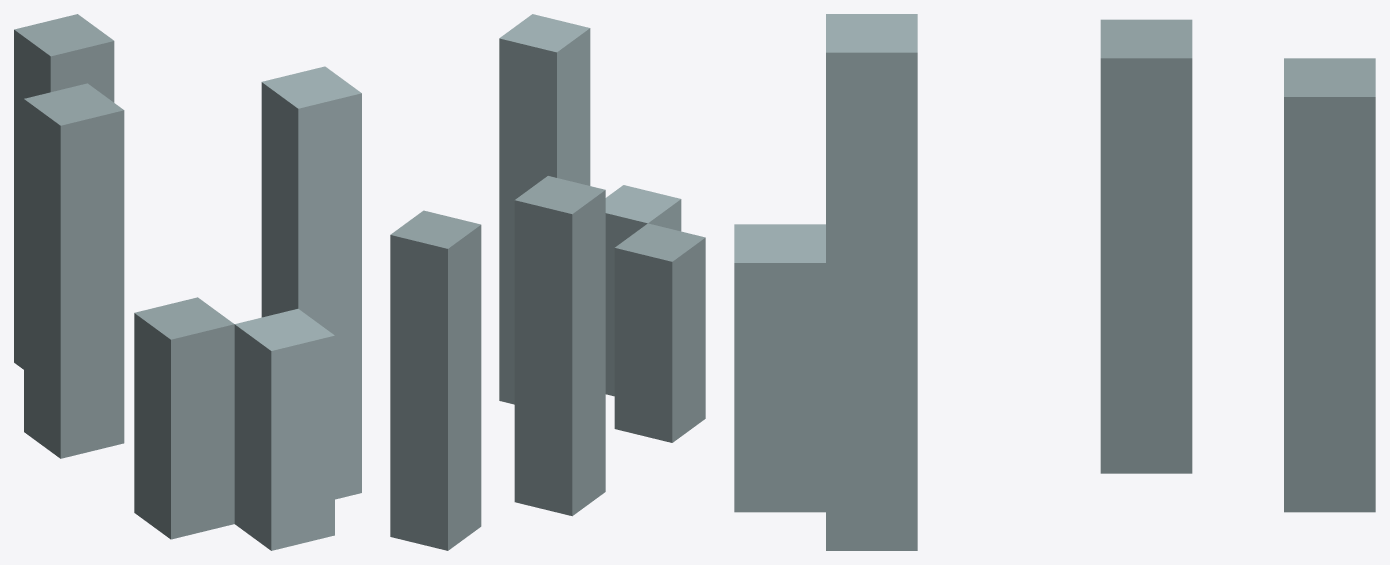
Rendered from cardo_maritimo_01.glb.
The picture shows the model from 3 angles, left to right: view 1: azimuth 30°, elevation 25°; view 2: azimuth 150°, elevation 25°; view 3: azimuth 270°, elevation 25°; orthographic projection. The views are drawn at different scales.
Parts seen in each view (by area): view 1: cardo_maritimo_01; view 2: cardo_maritimo_01; view 3: cardo_maritimo_01.
Part boxes in pixels (<box>): cardo_maritimo_01: <box>14,14,361,550</box>; cardo_maritimo_01: <box>390,14,705,550</box>; cardo_maritimo_01: <box>734,14,1375,550</box>.
Bounding box in the file's own units: 0.3 × 0.6 × 0.7.
